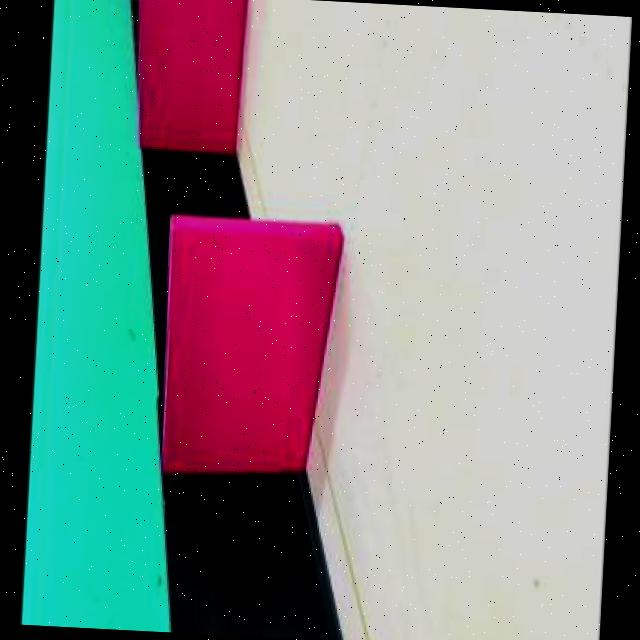xparking: (165, 222, 343, 467), (142, 0, 246, 150)
